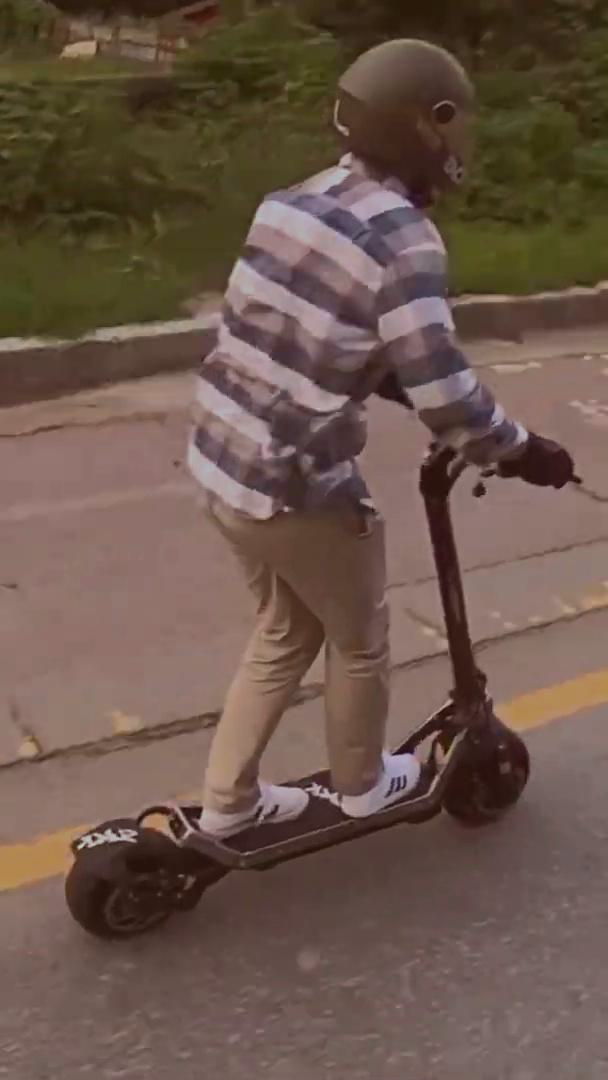helmet: (62, 34, 585, 941)
